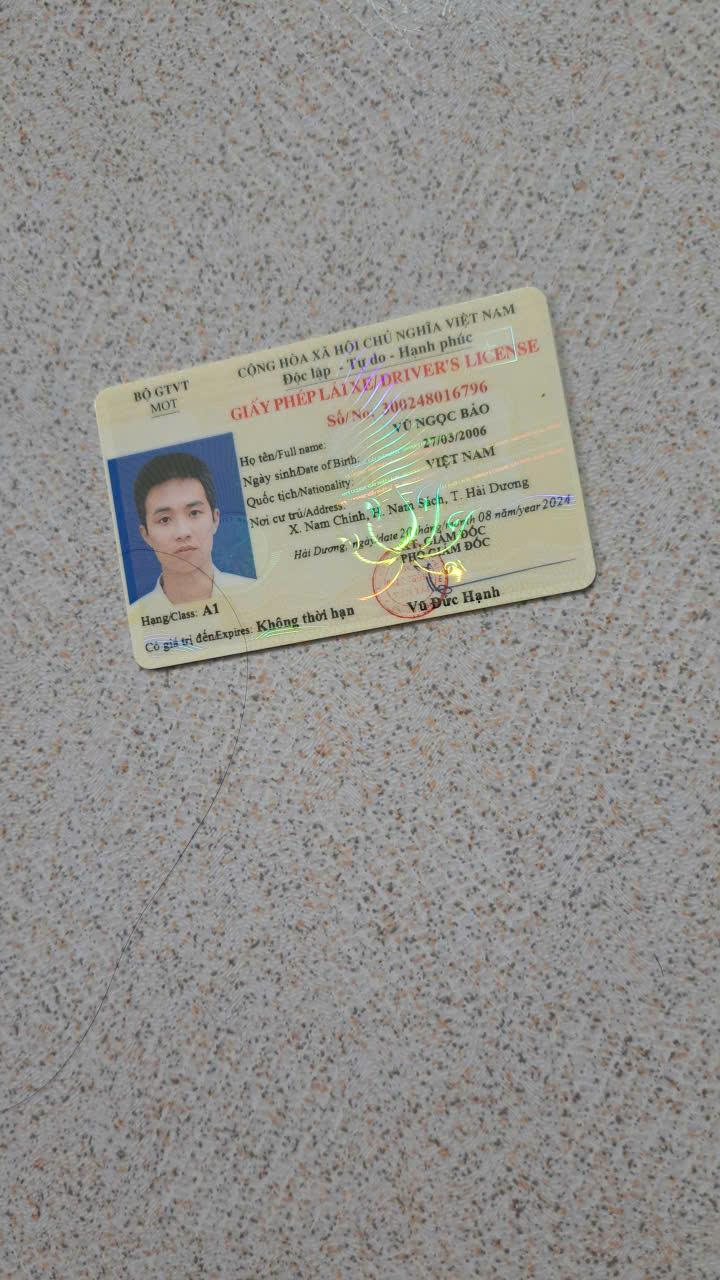gplx: (86, 279, 605, 678)
